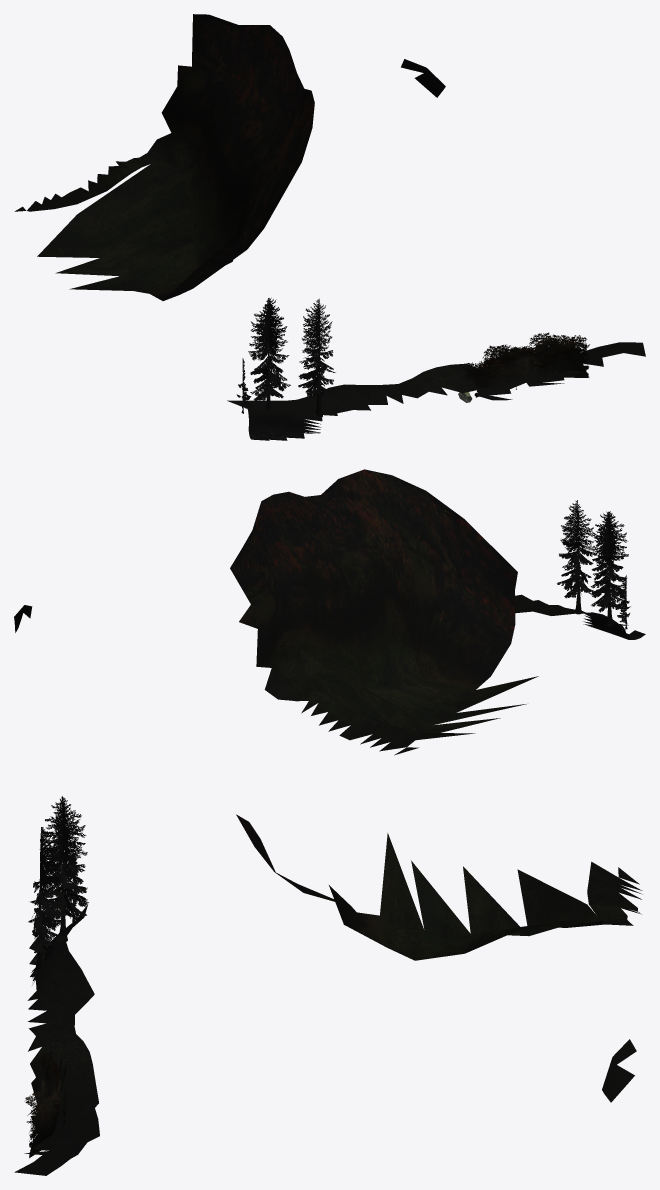
The model's file is cell_5_-17.gltf.
The picture shows the model from 3 angles, top to bottom: view 1: azimuth 30°, elevation 25°; view 2: azimuth 150°, elevation 25°; view 3: azimuth 270°, elevation 25°; orthographic projection. The views are drawn at different scales.
Parts seen in each view (by area): view 1: cell_5_-17; view 2: cell_5_-17; view 3: cell_5_-17.
Boxes of the visible parts, box(x1,y1,x2,y2) form: cell_5_-17: box(14, 14, 645, 440); cell_5_-17: box(14, 469, 645, 755); cell_5_-17: box(14, 796, 642, 1175).
Size of the model in its own units: 279 by 144 by 272.
Materials: 19 (19 with a texture image).
